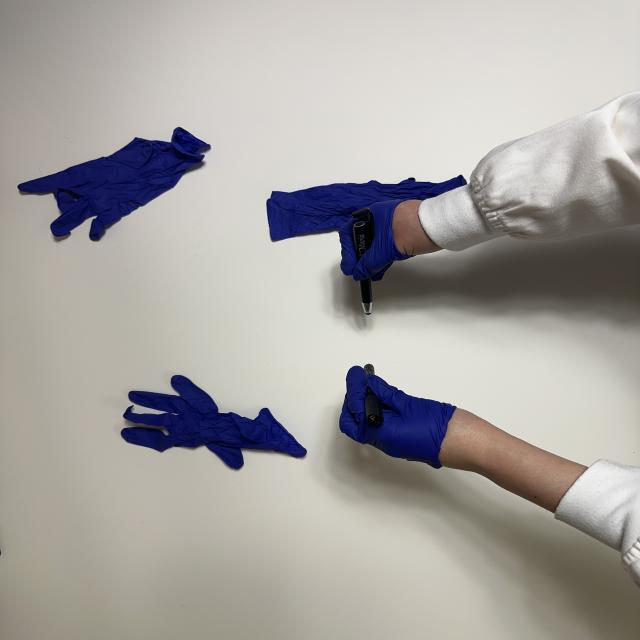glove_not_fitted: (341, 364, 491, 472), (335, 198, 436, 282)
